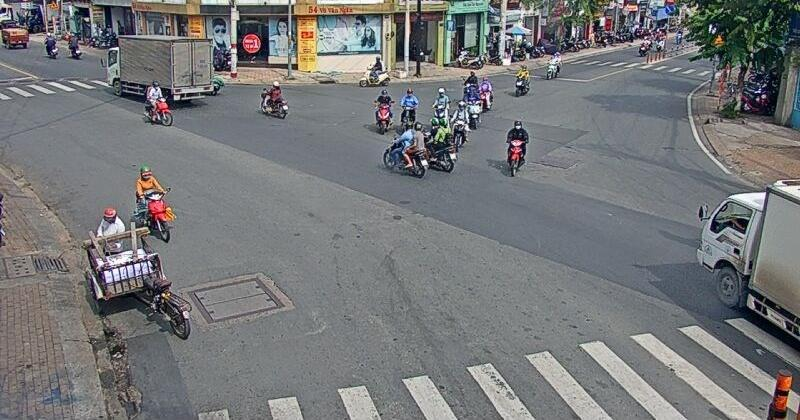xe hoi: (358, 56, 391, 87)
xe may: (381, 120, 428, 178), (136, 167, 171, 244), (426, 117, 457, 171), (505, 120, 530, 176), (146, 80, 173, 127), (260, 81, 289, 119), (451, 99, 469, 149), (399, 87, 419, 129), (374, 90, 393, 134), (432, 87, 448, 118), (515, 64, 530, 96)
xe tai: (696, 184, 800, 338), (105, 35, 211, 102)
